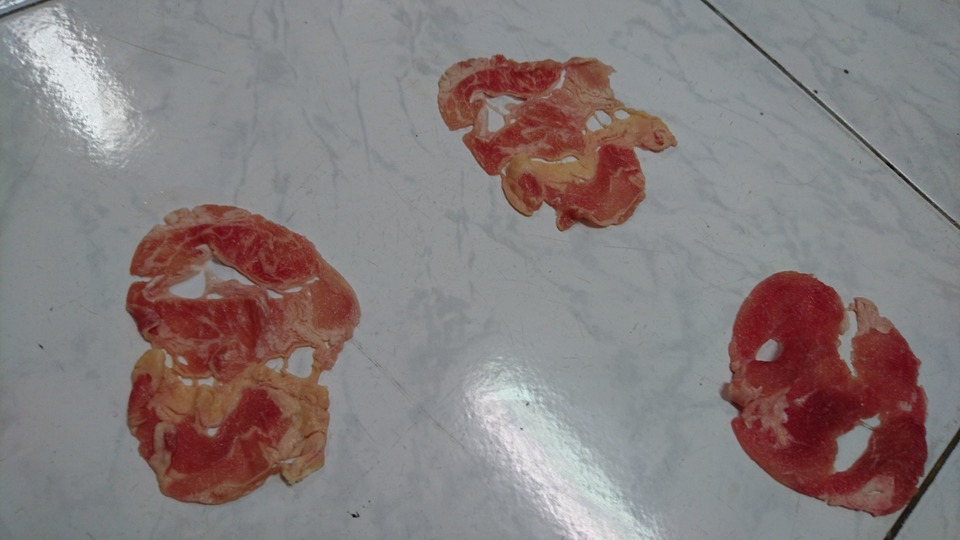restructured meat: (100, 190, 358, 504), (713, 261, 933, 513), (423, 40, 680, 237)
